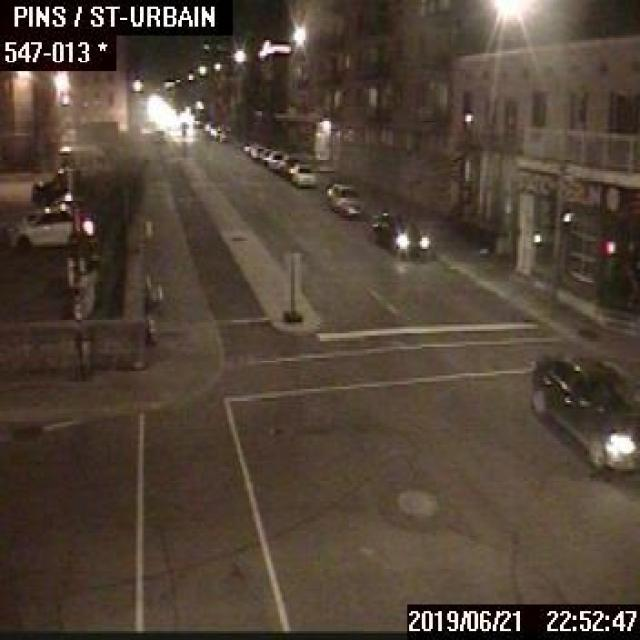vehicle: (531, 349, 638, 480), (4, 205, 95, 245), (360, 210, 430, 256), (29, 165, 88, 206), (324, 181, 364, 215), (287, 160, 316, 187), (266, 148, 290, 170), (276, 155, 299, 175), (259, 146, 274, 163), (249, 144, 264, 158)
